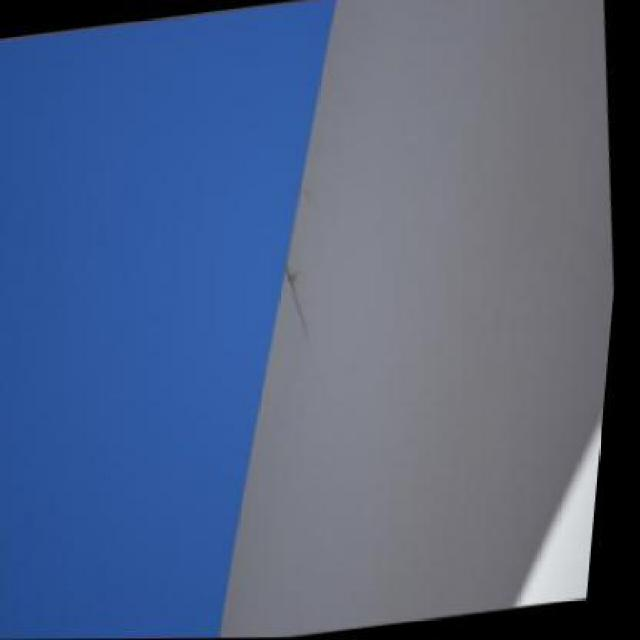Crack: (281, 258, 324, 347)
